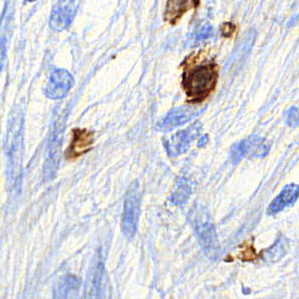Lymphocyte: (179, 51, 220, 105)
